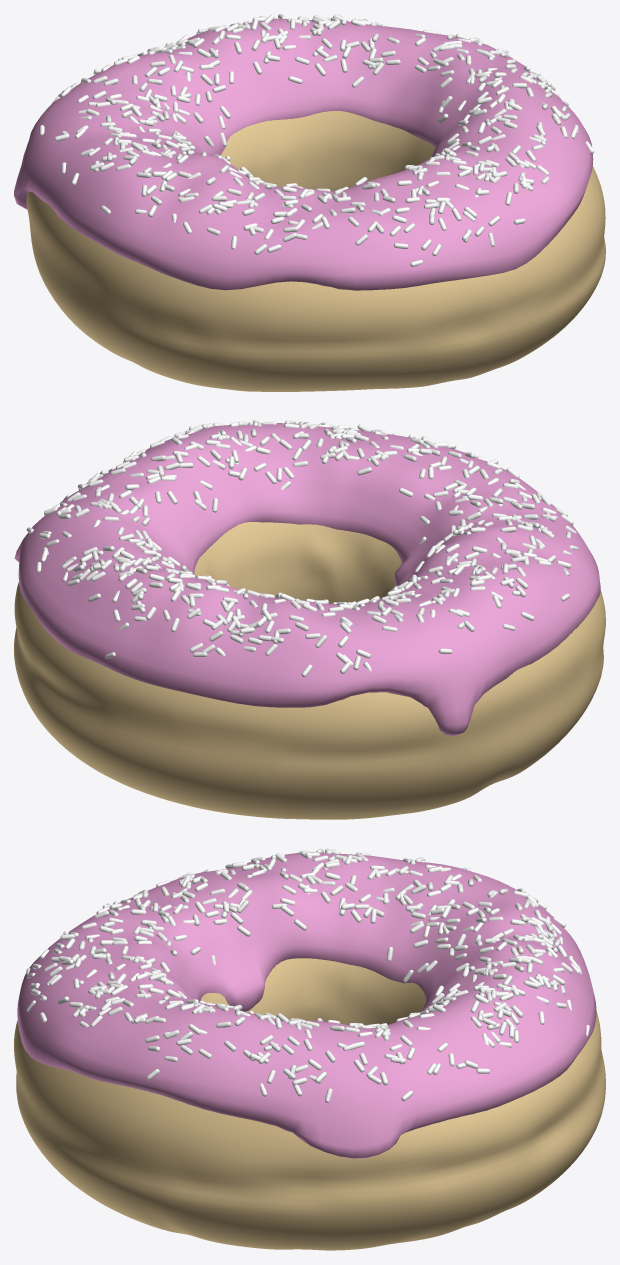
Rendered from donut.glb.
The picture shows the model from 3 angles, top to bottom: view 1: azimuth 30°, elevation 25°; view 2: azimuth 150°, elevation 25°; view 3: azimuth 270°, elevation 25°; orthographic projection. The views are drawn at different scales.
Visible parts, largest first — view 1: Icing, Donut; view 2: Icing, Donut; view 3: Icing, Donut.
Boxes of the visible parts, x1,y1,x2,y2 form: Icing: (14,18,593,290); Donut: (26,111,605,391); Icing: (14,423,600,735); Donut: (14,522,605,819); Icing: (17,852,596,1158); Donut: (14,958,605,1250).
Bounding box in the file's own units: 0.1496 × 0.0622 × 0.1481.
